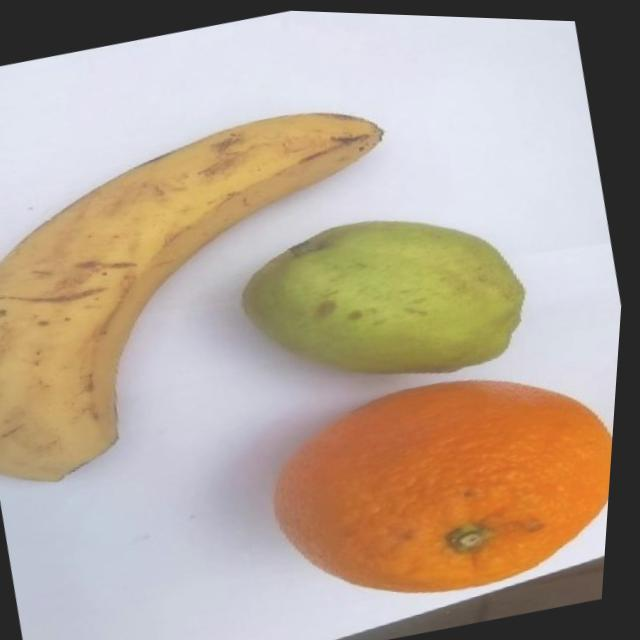Banana: (0, 79, 450, 503)
Orange: (252, 334, 623, 629)
